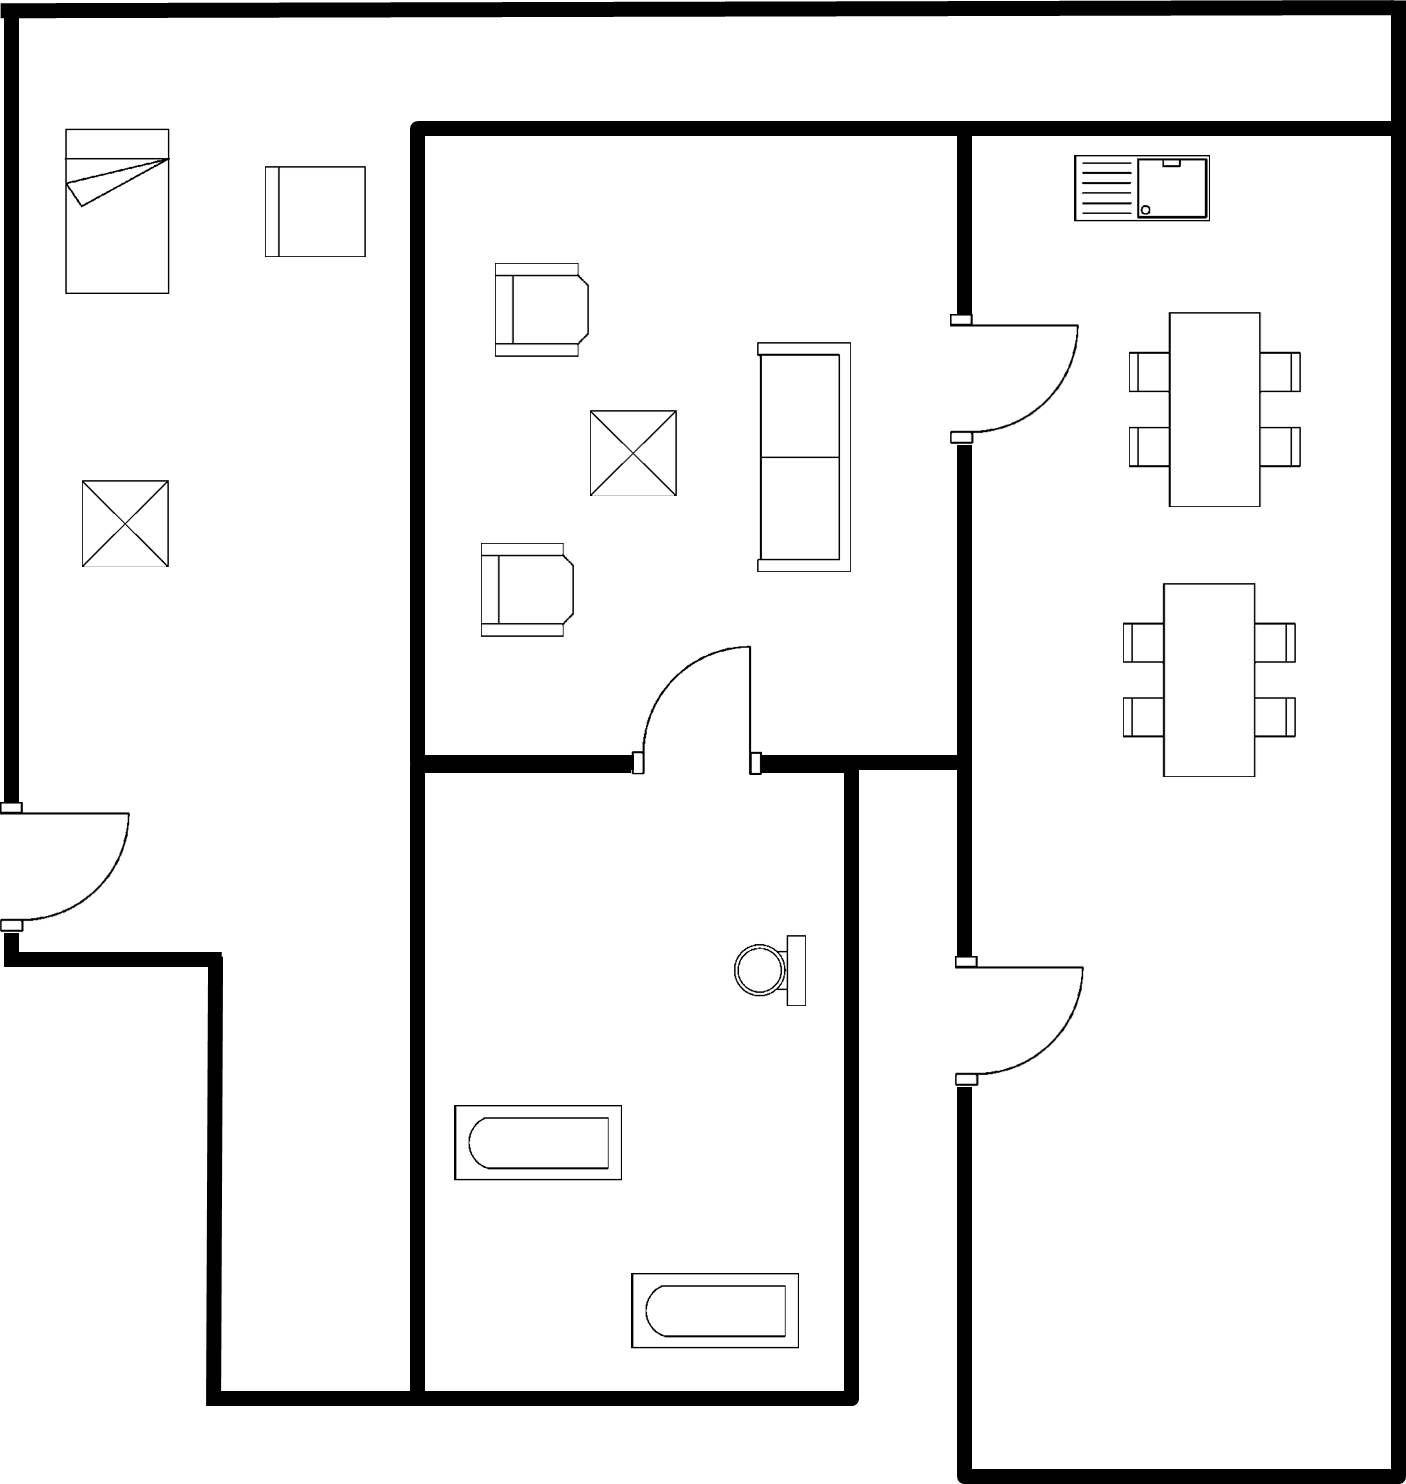armchair: (469, 529, 582, 651), (483, 253, 599, 369)
bed: (49, 119, 179, 308)
coffee_table: (580, 398, 688, 506), (72, 468, 178, 578)
dining_table: (1114, 572, 1311, 791), (1118, 301, 1309, 520)
large_sink: (724, 926, 817, 1014)
large_sofa: (740, 329, 865, 585)
sink: (1062, 146, 1220, 236)
small_sofa: (254, 153, 372, 274)
tub: (444, 1090, 649, 1191), (621, 1264, 812, 1359)
